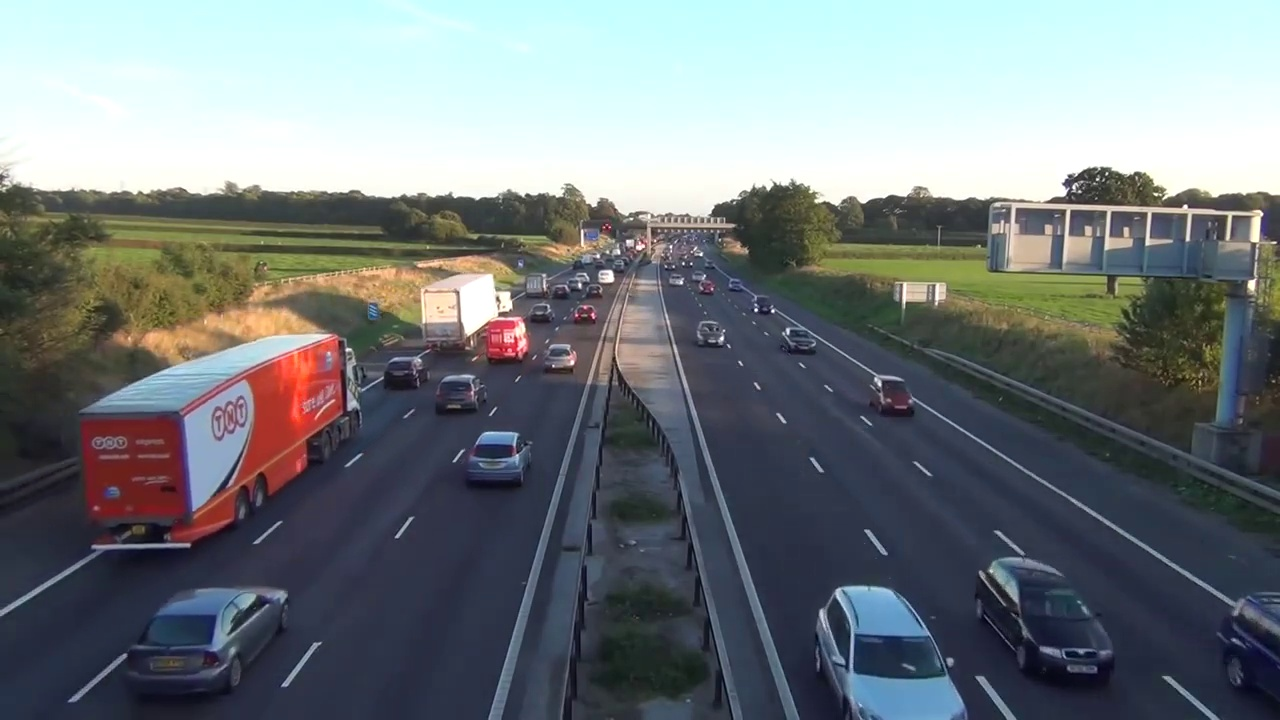bus: (806, 585, 973, 720), (976, 553, 1119, 690), (124, 589, 295, 699), (1217, 583, 1280, 699), (465, 432, 535, 492), (869, 376, 922, 420), (435, 373, 489, 413), (383, 355, 430, 388), (780, 326, 817, 357), (545, 343, 577, 374), (696, 321, 727, 349), (751, 294, 777, 314), (528, 303, 556, 320), (573, 305, 599, 322), (551, 285, 570, 300), (587, 283, 603, 299), (698, 281, 713, 295), (729, 278, 743, 292)
car: (81, 331, 360, 560), (422, 273, 502, 354), (525, 272, 551, 298)
lorry: (495, 289, 515, 315)
minibus: (488, 317, 530, 365)
